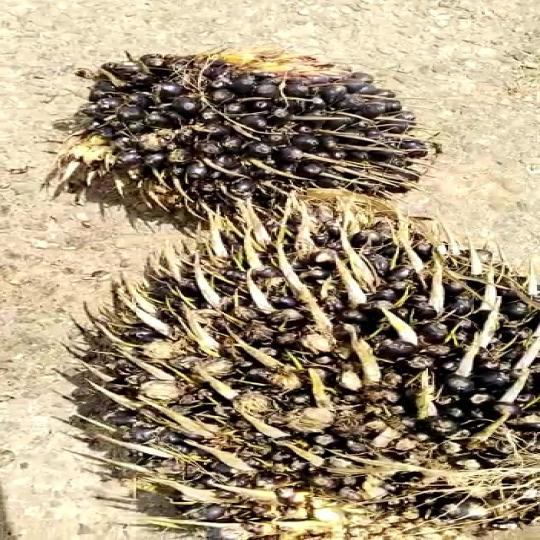mentah: (69, 221, 540, 535), (62, 43, 469, 225)
